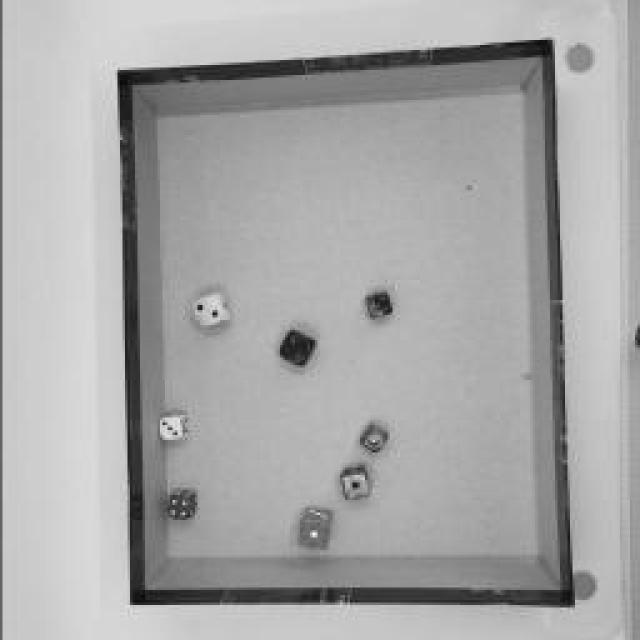dice_1: (297, 506, 335, 552), (339, 466, 371, 504), (358, 424, 390, 451)
dice_2: (276, 329, 319, 369), (189, 294, 231, 328)
dice_3: (158, 410, 190, 442)
dice_4: (166, 491, 202, 521)
dice_5: (365, 290, 395, 320)
